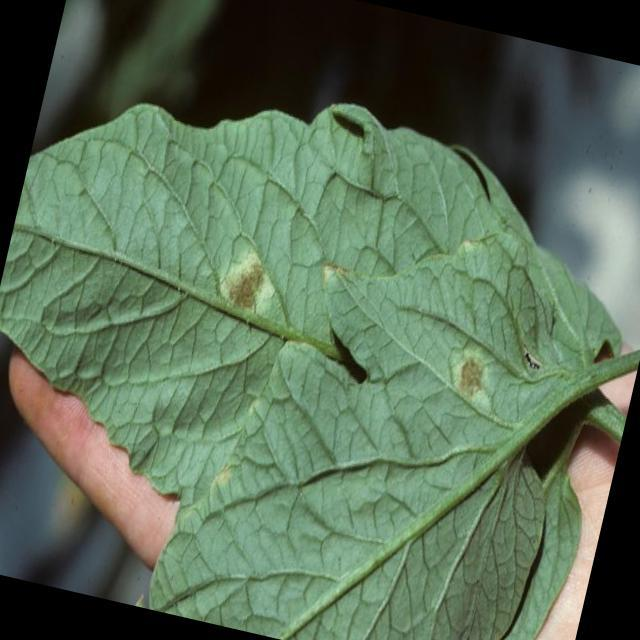Leaf Mold: (0, 25, 639, 529), (252, 222, 639, 639)
